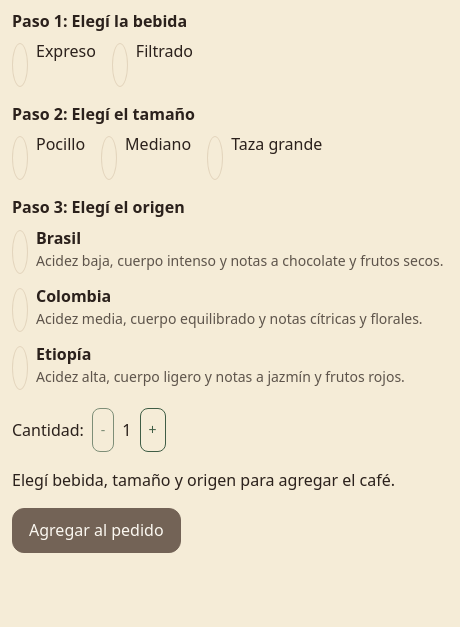
Componente SelectorCafe › agrega el producto correcto según bebida, tamaño y origen
Later steps or results of the test are not shown.
Step 1. Click the radio button labelled "Expreso" → (20, 65), box left=12, top=43, right=28, bottom=87
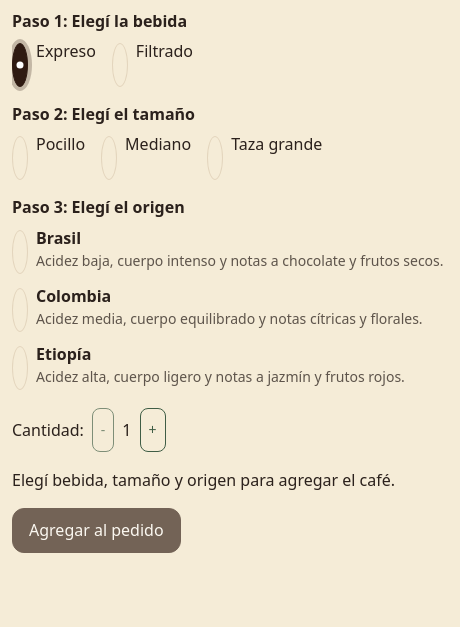
Step 2. Click the radio button labelled "Mediano" → (109, 158), box left=101, top=136, right=117, bottom=180
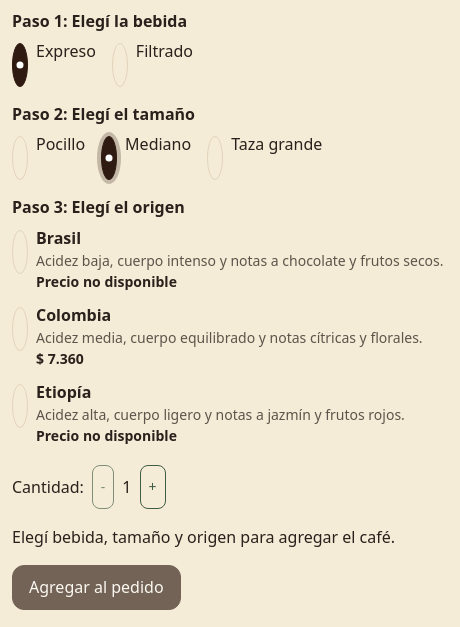
Expected: the text "Acidez media, cuerpo equilibrado" is shown, left=36, top=328, right=423, bottom=347
Expected: the text "$ 7.360" is shown, left=36, top=349, right=84, bottom=368
